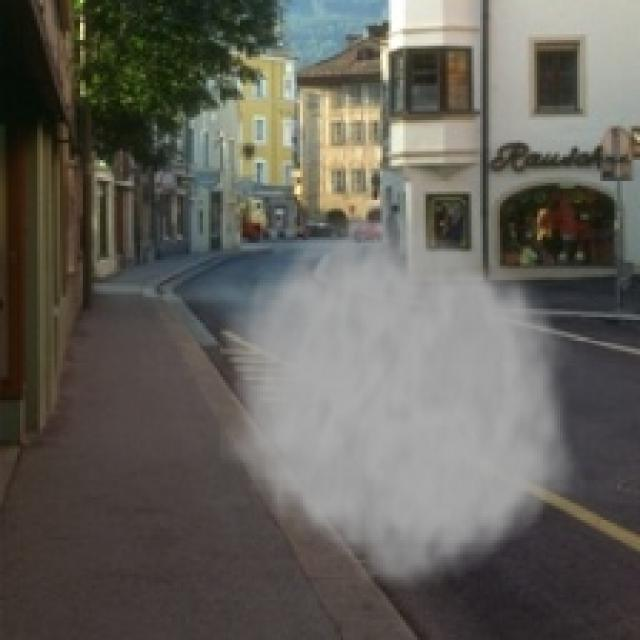smoke: (220, 191, 589, 600)
